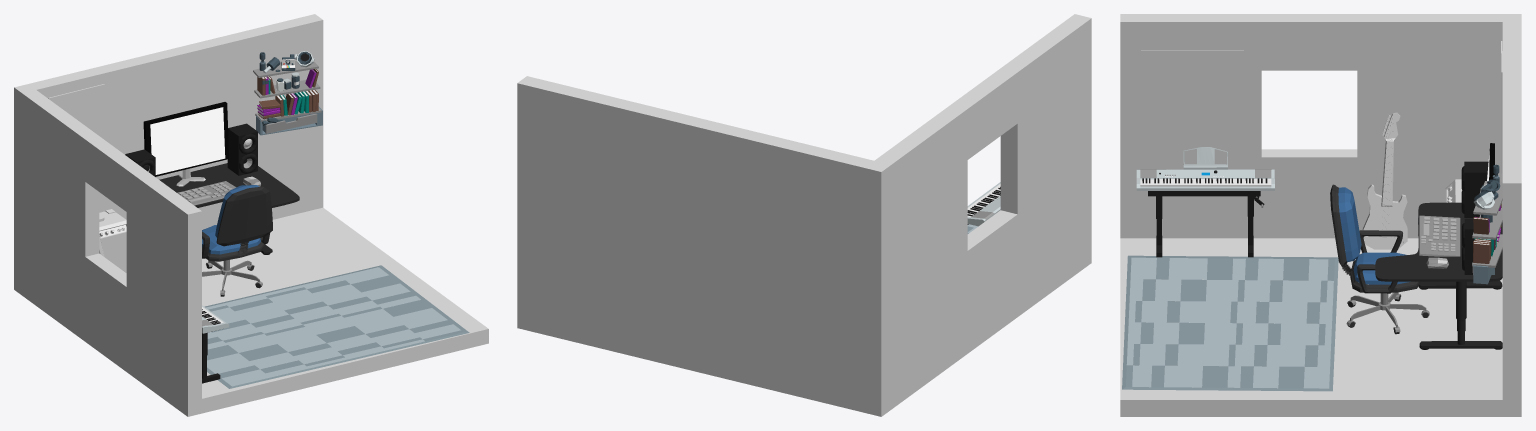
3 renders of one model, left to right at view 1: azimuth 30°, elevation 25°; view 2: azimuth 150°, elevation 25°; view 3: azimuth 270°, elevation 25°, orthographic. The views are drawn at different scales.
Parts seen in each view (by area): view 1: Plane, Modern_rug_Plane.004, OfficeChair, Shelf Clutter, Plane.002, Plane.001_Plane.002, bigbrr, Guitar_Amp, Object.1, group2141225942, Object.30; view 2: Plane; view 3: Plane, Modern_rug_Plane.004, line-up, OfficeChair, Plane.001_Plane.002, ElectricGuitar_mesh, Shelf Clutter, group2006127357, Object.30, group1212375346, group2141225942.001, group177324776 (+4 smaller).
Boxes of the visible parts, <box> form: Plane: <box>14,14,488,416</box>; Modern_rug_Plane.004: <box>204,265,469,388</box>; OfficeChair: <box>202,185,272,296</box>; Shelf Clutter: <box>253,51,322,135</box>; Plane.002: <box>150,107,225,174</box>; Plane.001_Plane.002: <box>159,163,299,207</box>; bigbrr: <box>48,84,104,139</box>; Guitar_Amp: <box>99,209,126,272</box>; Object.1: <box>143,102,228,176</box>; group2141225942: <box>228,123,257,156</box>; Object.30: <box>177,181,236,205</box>; Plane: <box>517,14,1091,416</box>; Plane: <box>1120,14,1521,416</box>; Modern_rug_Plane.004: <box>1122,255,1338,391</box>; line-up: <box>1141,50,1243,143</box>; OfficeChair: <box>1330,184,1429,334</box>; Plane.001_Plane.002: <box>1375,202,1502,281</box>; ElectricGuitar_mesh: <box>1362,112,1407,249</box>; Shelf Clutter: <box>1472,164,1502,284</box>; group2006127357: <box>1140,169,1271,179</box>; Object.30: <box>1419,215,1460,256</box>; group1212375346: <box>1140,179,1271,186</box>; group2141225942.001: <box>1464,161,1488,195</box>; group177324776: <box>1136,186,1274,190</box>.
Size of the model in its own units: 8.39 by 5.39 by 8.39.
